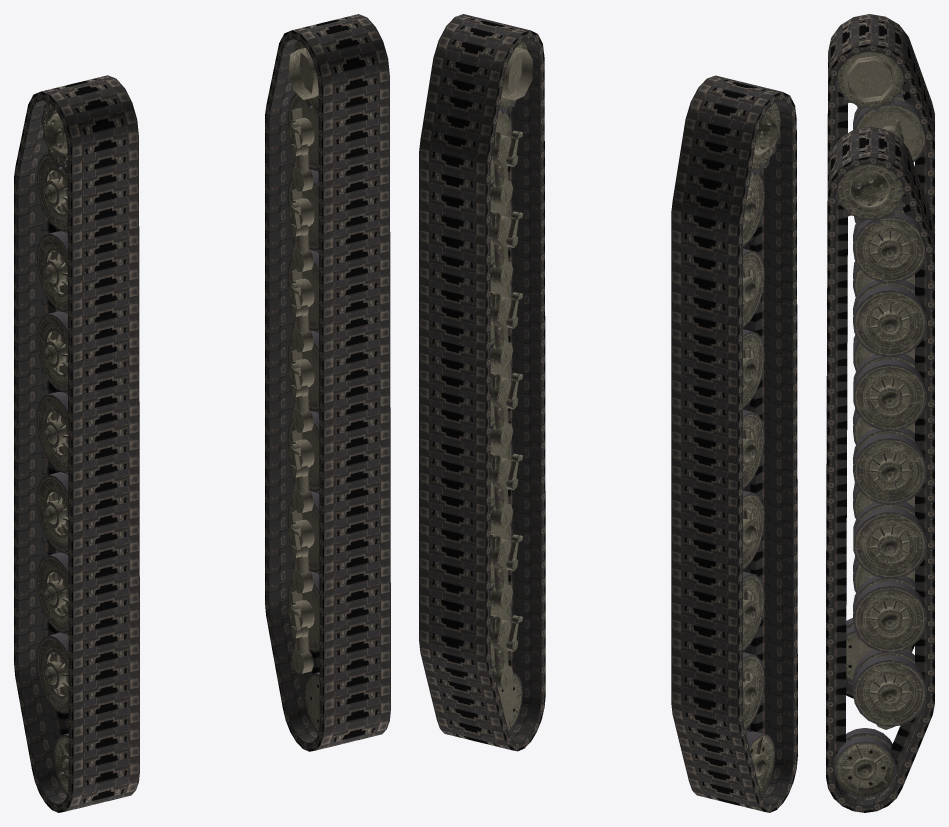
File: Chassis.glb
3 views of the same model, side by side, from view 1: azimuth 30°, elevation 25°; view 2: azimuth 150°, elevation 25°; view 3: azimuth 270°, elevation 25° (orthographic). The views are drawn at different scales.
Parts seen in each view (by area): view 1: set_1_group_0, set_3_group_0, set_5_group_0, set_4_group_0, set_0_group_0, set_2_group_0; view 2: set_1_group_0, set_3_group_0, set_5_group_0, set_4_group_0, set_0_group_0, set_2_group_0; view 3: set_5_group_0, set_3_group_0, set_4_group_0, set_1_group_0, set_2_group_0, set_0_group_0.
Boxes of the visible parts, x1,y1,x2,y2 form: set_1_group_0: (14, 75, 139, 812); set_3_group_0: (265, 14, 390, 751); set_5_group_0: (287, 41, 319, 732); set_4_group_0: (36, 102, 68, 794); set_0_group_0: (15, 105, 48, 170); set_2_group_0: (266, 43, 295, 109); set_1_group_0: (671, 75, 797, 812); set_3_group_0: (419, 14, 545, 751); set_5_group_0: (490, 41, 533, 732); set_4_group_0: (743, 102, 780, 794); set_0_group_0: (672, 119, 756, 216); set_2_group_0: (420, 58, 504, 154); set_5_group_0: (834, 164, 926, 797); set_3_group_0: (826, 126, 934, 812); set_4_group_0: (836, 51, 926, 681); set_1_group_0: (826, 14, 934, 698); set_2_group_0: (901, 150, 932, 246); set_0_group_0: (901, 37, 932, 133).
Size of the model in its own units: 3.39 by 7.28 by 1.09.
Materials: 6 (6 with a texture image).
